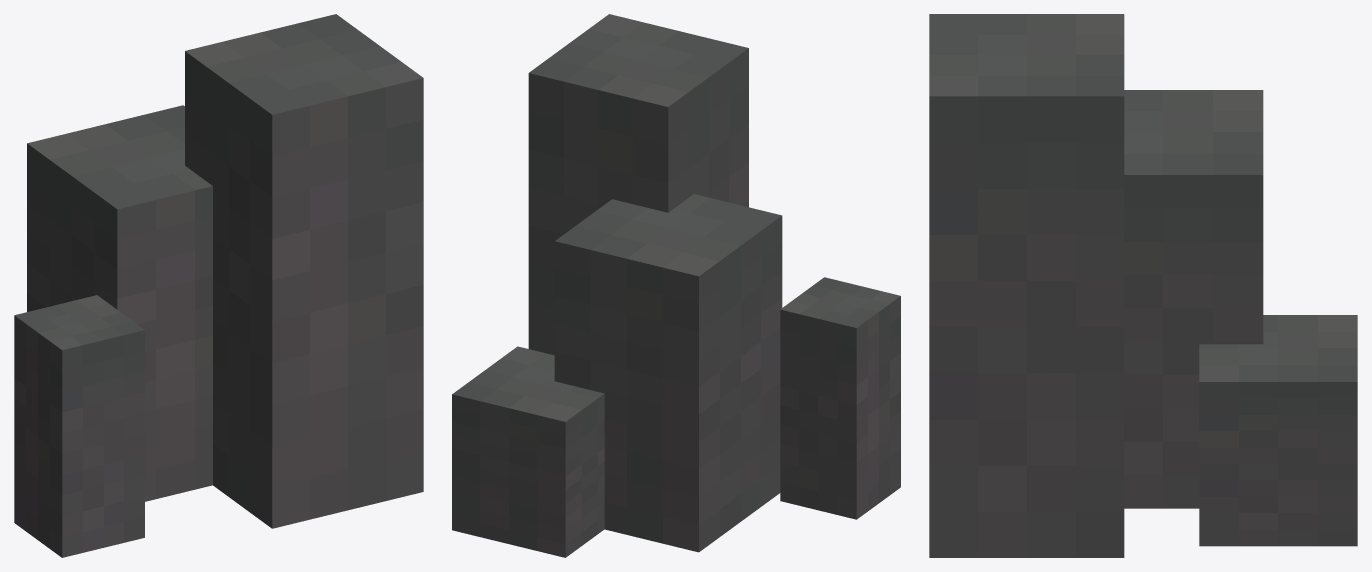
Rendered from pyrolusite_crystal_four.obj.
3 views of the same model, side by side, from view 1: azimuth 30°, elevation 25°; view 2: azimuth 150°, elevation 25°; view 3: azimuth 270°, elevation 25° (orthographic). The views are drawn at different scales.
Parts seen in each view (by area): view 1: Crystal5_Cube.008; view 2: Crystal5_Cube.008; view 3: Crystal5_Cube.008.
Boxes of the visible parts, box(x1,y1,x2,y2) form: Crystal5_Cube.008: box(14, 14, 423, 557); Crystal5_Cube.008: box(452, 14, 900, 557); Crystal5_Cube.008: box(929, 14, 1357, 557).
Size of the model in its own units: 0.4231 by 0.494 by 0.4151.
